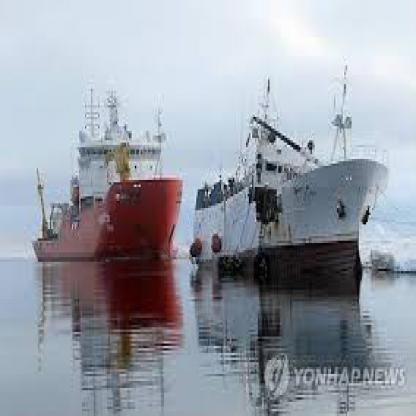fish-b: (188, 56, 398, 297), (12, 68, 192, 269)
